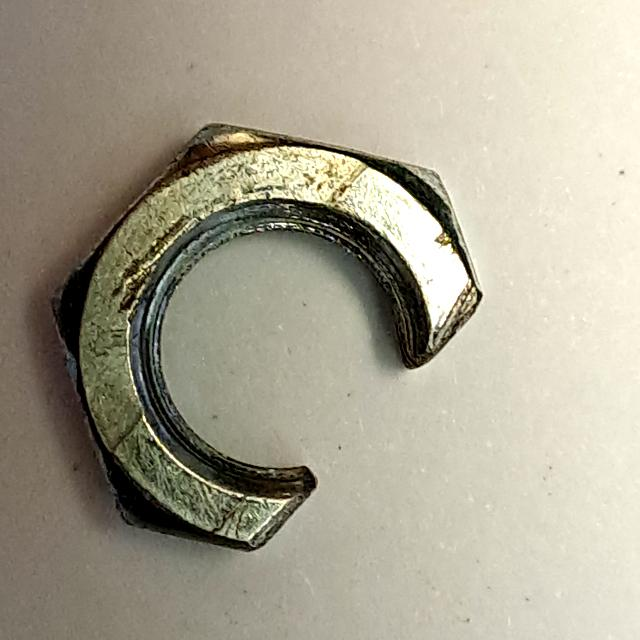Fracture: (36, 104, 503, 562)
